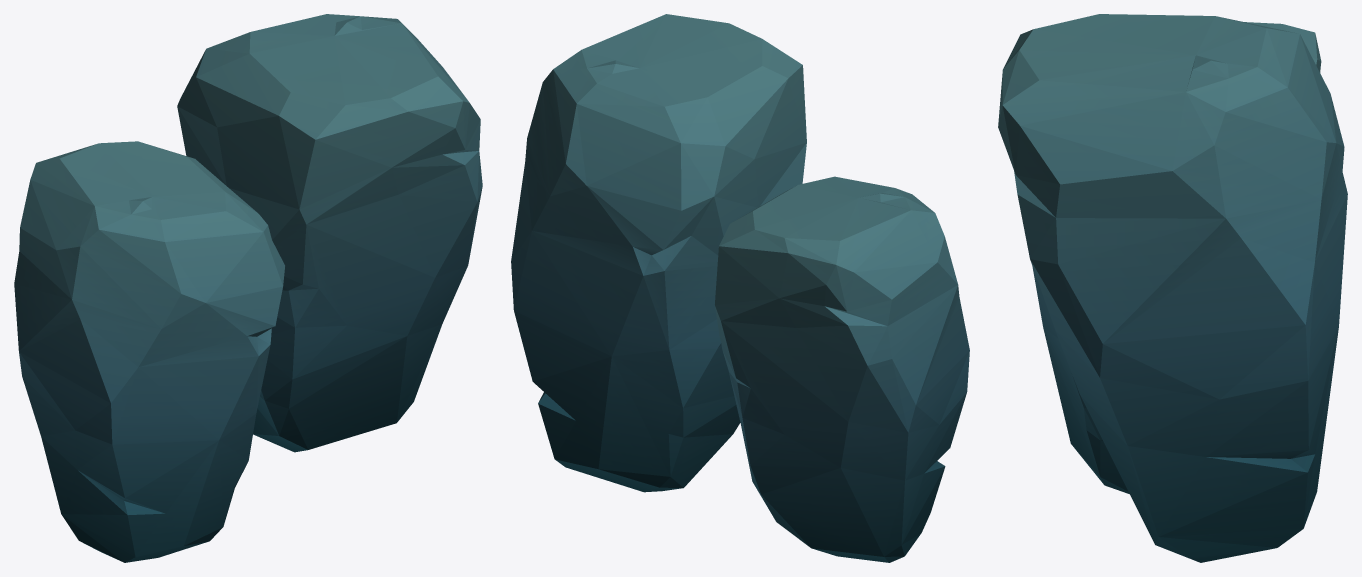
File: Props3_Rocks_Small_0_1.fbx
3 renders of one model, left to right at view 1: azimuth 30°, elevation 25°; view 2: azimuth 150°, elevation 25°; view 3: azimuth 270°, elevation 25°, orthographic. The views are drawn at different scales.
Visible parts, largest first — view 1: Floating_Rock_1_Big_0_1.005, Floating_Rock_1_Big_0_1.002; view 2: Floating_Rock_1_Big_0_1.005, Floating_Rock_1_Big_0_1.002; view 3: Floating_Rock_1_Big_0_1.005, Floating_Rock_1_Big_0_1.002.
Boxes of the visible parts, bbox=[...] form: Floating_Rock_1_Big_0_1.005: bbox=[177, 14, 482, 452]; Floating_Rock_1_Big_0_1.002: bbox=[14, 141, 284, 562]; Floating_Rock_1_Big_0_1.005: bbox=[511, 14, 806, 492]; Floating_Rock_1_Big_0_1.002: bbox=[715, 176, 969, 562]; Floating_Rock_1_Big_0_1.005: bbox=[998, 14, 1347, 562]; Floating_Rock_1_Big_0_1.002: bbox=[1032, 22, 1321, 493].
Bounding box in the file's own units: 317 × 352 × 200.
